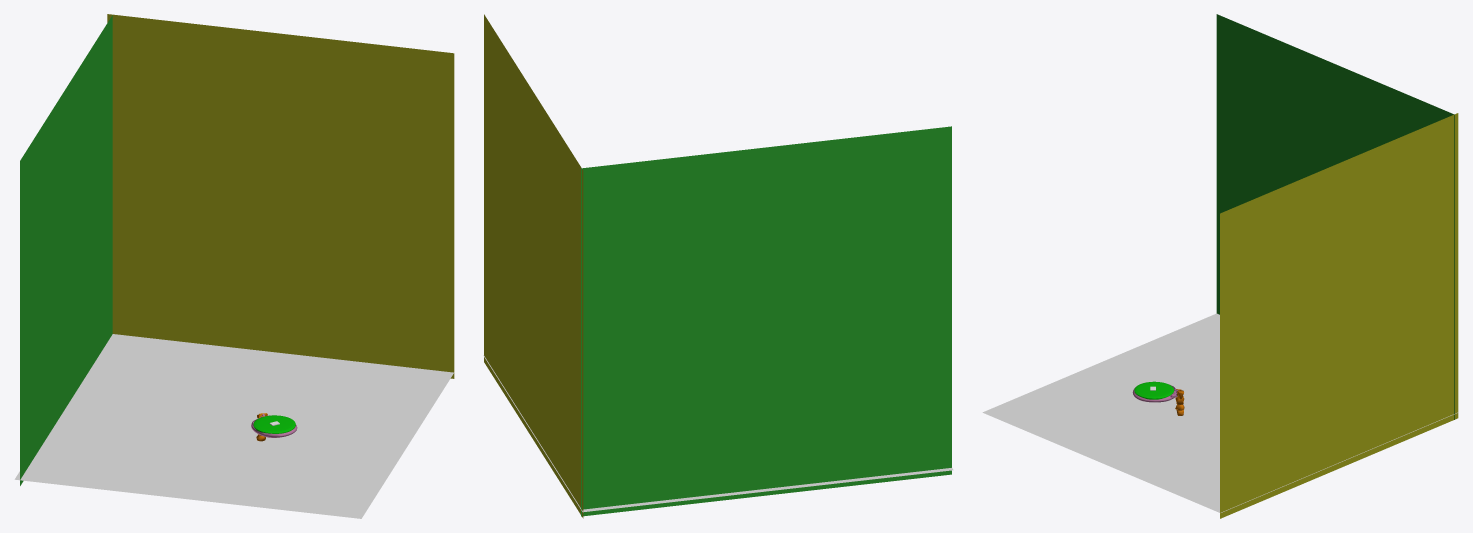
File: poker_table.gltf
3 views of the same model, side by side, from view 1: azimuth 30°, elevation 25°; view 2: azimuth 150°, elevation 25°; view 3: azimuth 270°, elevation 25° (orthographic). The views are drawn at different scales.
Visible parts, largest first — view 1: right_wall, ground, left_wall, moquette; view 2: left_wall, right_wall, ground; view 3: right_wall, left_wall, ground, moquette.
Part boxes in pixels (bbox=[...]): right_wall: bbox=[107, 14, 454, 378]; ground: bbox=[14, 334, 453, 518]; left_wall: bbox=[20, 15, 112, 485]; moquette: bbox=[253, 415, 295, 433]; left_wall: bbox=[581, 126, 951, 516]; right_wall: bbox=[484, 14, 583, 518]; ground: bbox=[483, 355, 953, 512]; right_wall: bbox=[1220, 113, 1458, 518]; left_wall: bbox=[1216, 14, 1454, 419]; ground: bbox=[982, 313, 1458, 512]; moquette: bbox=[1134, 381, 1174, 399].
Size of the model in its own units: 283 by 200 by 283.
